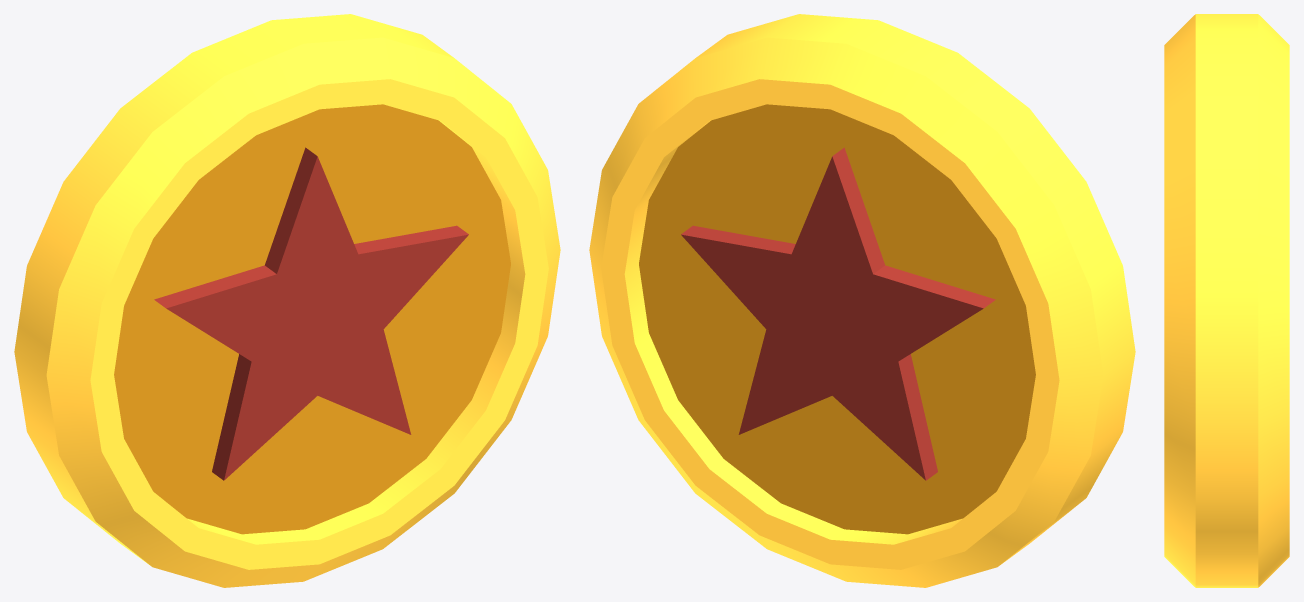
The model's file is coin_big.glb.
The picture shows the model from 3 angles, left to right: view 1: azimuth 30°, elevation 25°; view 2: azimuth 150°, elevation 25°; view 3: azimuth 270°, elevation 25°; orthographic projection. The views are drawn at different scales.
Parts seen in each view (by area): view 1: coin_big; view 2: coin_big; view 3: coin_big.
Boxes of the visible parts, x1=… form: coin_big: x1=14, y1=14, x2=560, y2=587; coin_big: x1=589, y1=14, x2=1135, y2=587; coin_big: x1=1164, y1=14, x2=1289, y2=587.
Bounding box in the file's own units: 0.6 × 0.6 × 0.13.
